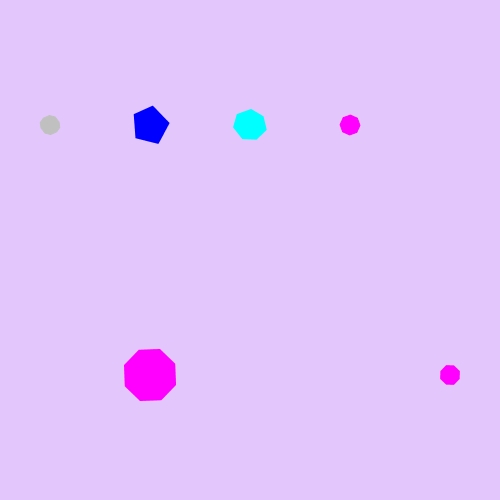decagon: (35, 111, 65, 139)
heptagon: (230, 106, 271, 145)
octagon: (119, 344, 181, 406), (335, 110, 365, 140), (435, 360, 465, 390)
pentagon: (128, 103, 173, 148)
